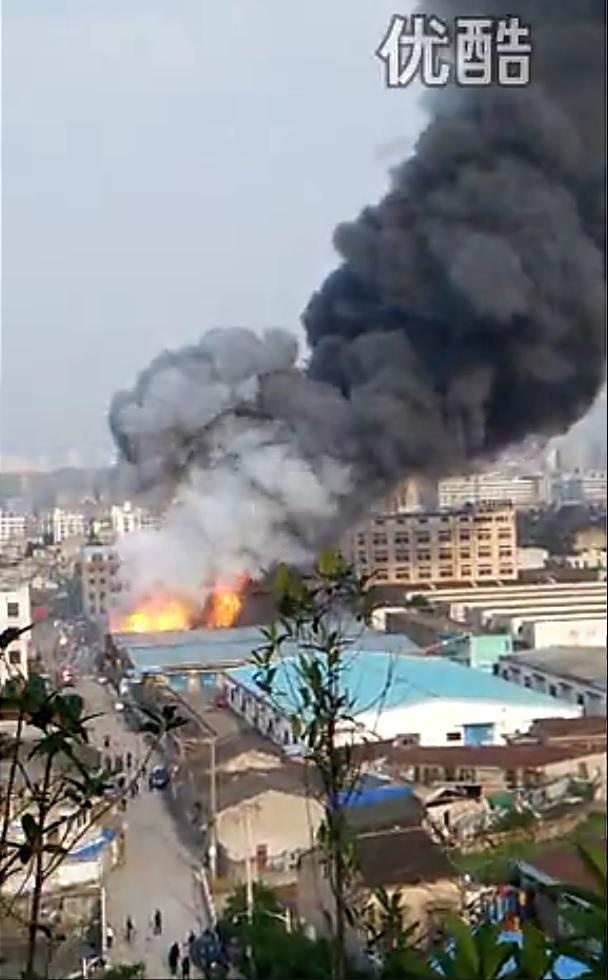fire: (114, 572, 247, 633)
